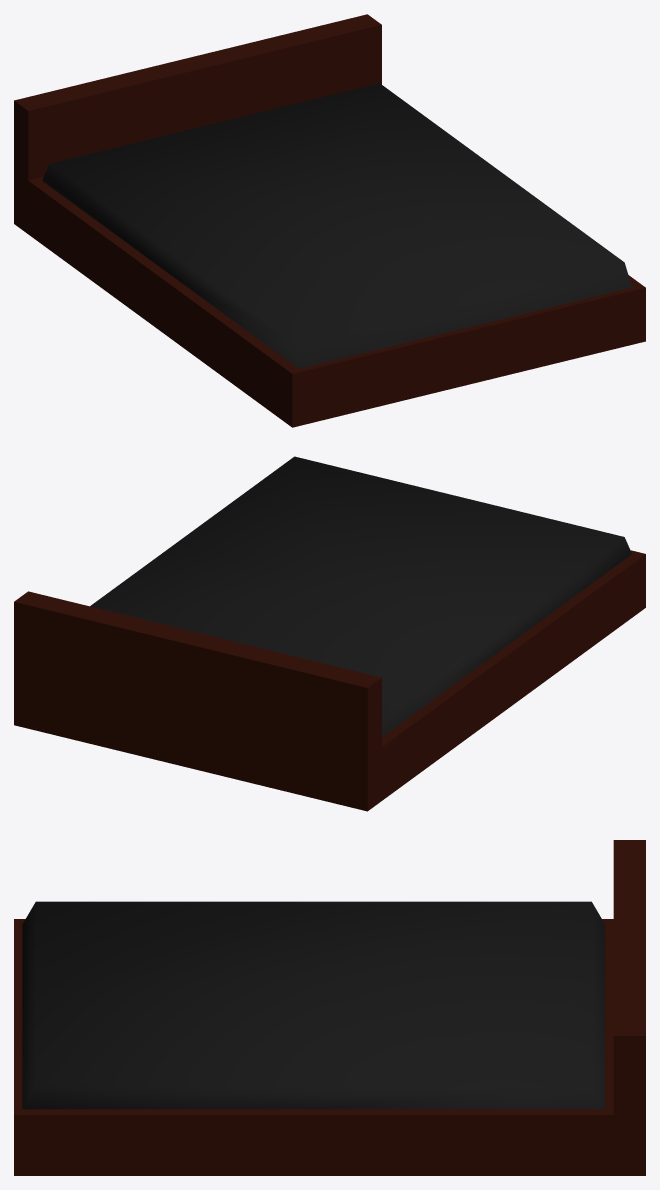
File: BedTest.FBX
The picture shows the model from 3 angles, top to bottom: view 1: azimuth 30°, elevation 25°; view 2: azimuth 150°, elevation 25°; view 3: azimuth 270°, elevation 25°; orthographic projection. The views are drawn at different scales.
Parts seen in each view (by area): view 1: Box014; view 2: Box014; view 3: Box014.
Part boxes in pixels (x1=…): Box014: x1=14, y1=14, x2=645, y2=427; Box014: x1=14, y1=456, x2=645, y2=811; Box014: x1=14, y1=840, x2=645, y2=1175.
Bounding box in the file's own units: 6.11 × 2.04 × 8.34.
